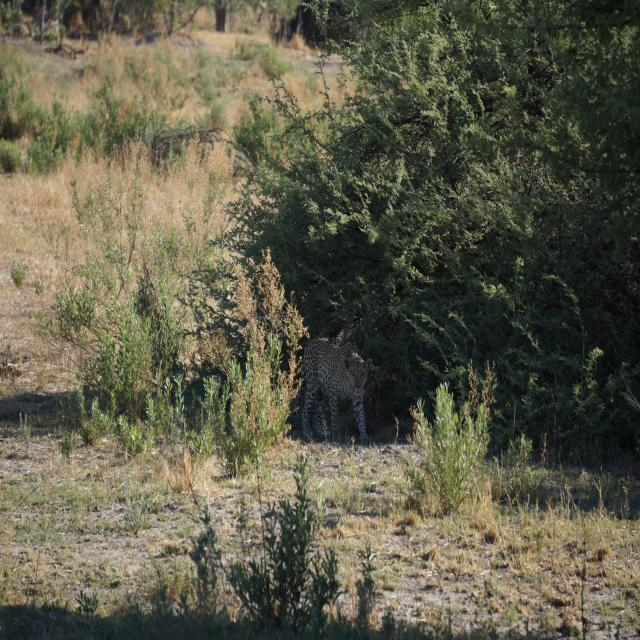Leopard: (282, 317, 384, 443)
